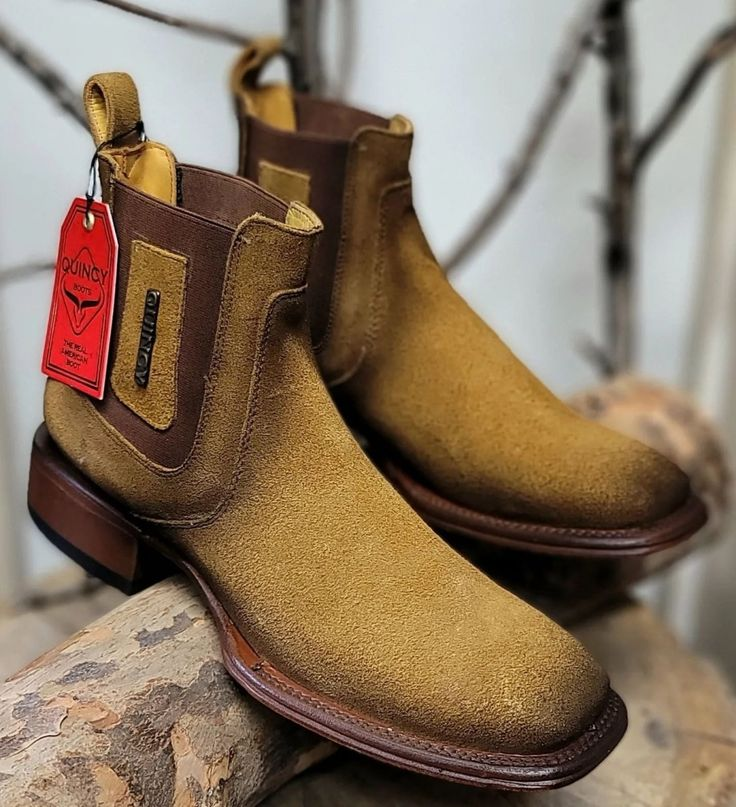gamuza: (42, 41, 692, 752)
